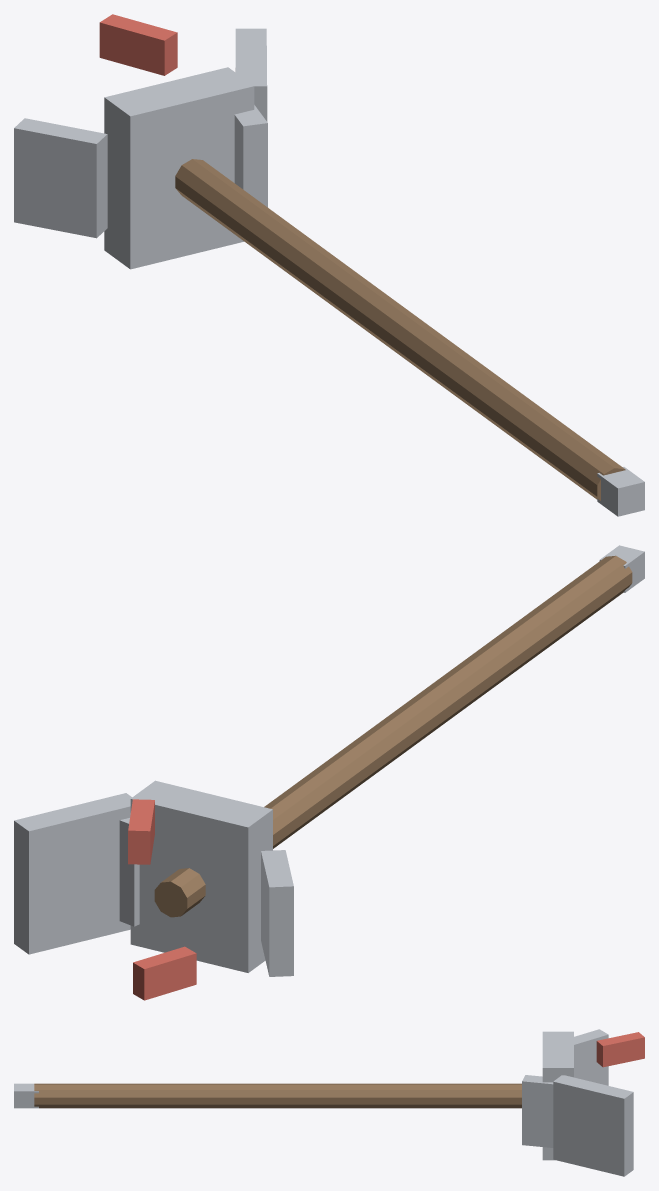
Rendered from equip_weapon_dragon_axe.glb.
3 renders of one model, top to bottom at view 1: azimuth 30°, elevation 25°; view 2: azimuth 150°, elevation 25°; view 3: azimuth 270°, elevation 25°, orthographic. The views are drawn at different scales.
Visible parts, largest first — view 1: equip_weapon_dragon_axe; view 2: equip_weapon_dragon_axe; view 3: equip_weapon_dragon_axe.
Part boxes in pixels (bbox=[...]): equip_weapon_dragon_axe: bbox=[14, 14, 644, 516]; equip_weapon_dragon_axe: bbox=[14, 545, 644, 1000]; equip_weapon_dragon_axe: bbox=[14, 1029, 644, 1176].
Bounding box in the file's own units: 0.243 × 0.161 × 0.8069.
